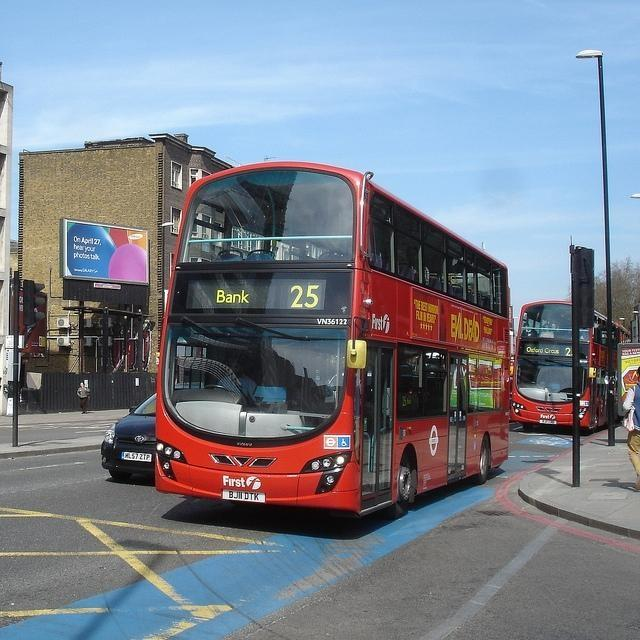bus: (155, 162, 515, 516), (512, 302, 615, 432)
car: (101, 392, 156, 481)
